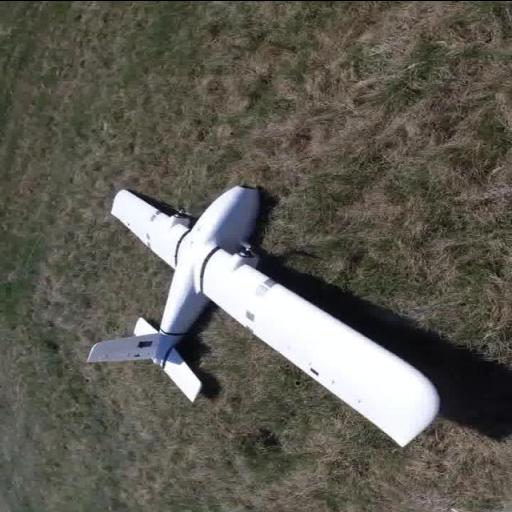uav: (79, 180, 455, 447)
